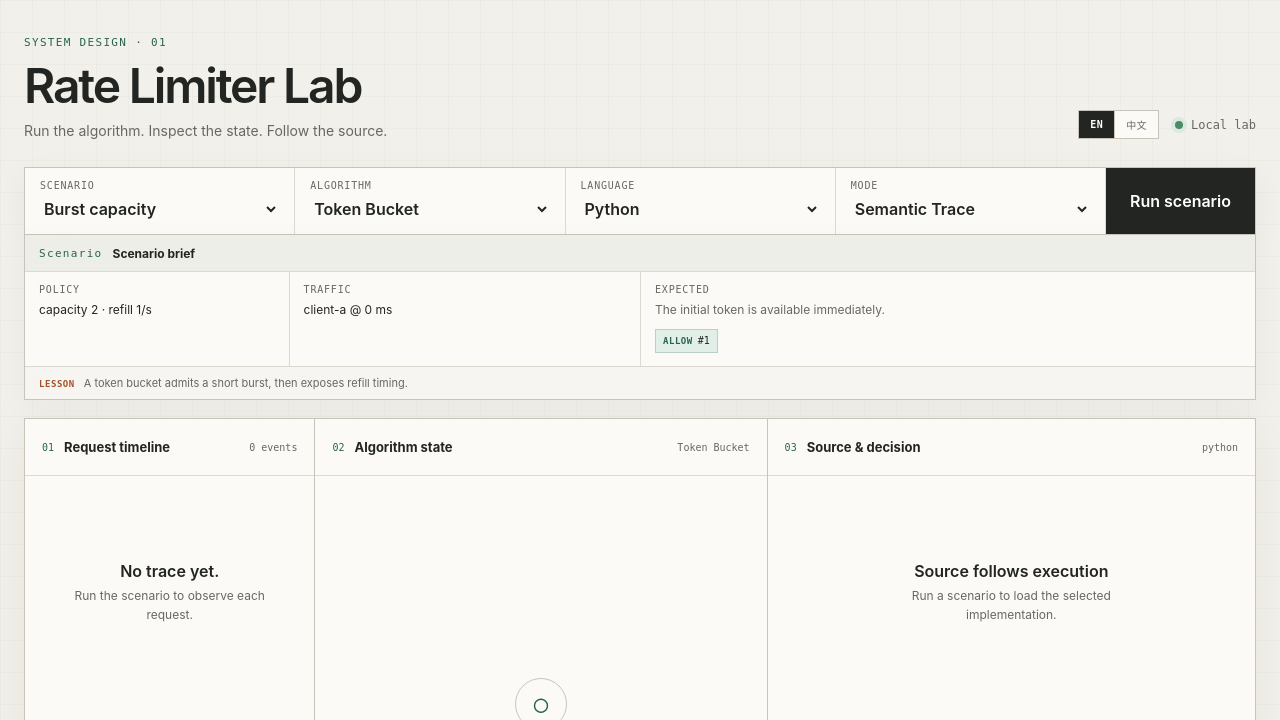
Test case: Rate Limiter Lab › shows API errors as a recoverable status
Click the button "Run scenario".
click(1180, 201)  # box top-left (1106, 168), bottom-right (1255, 234)
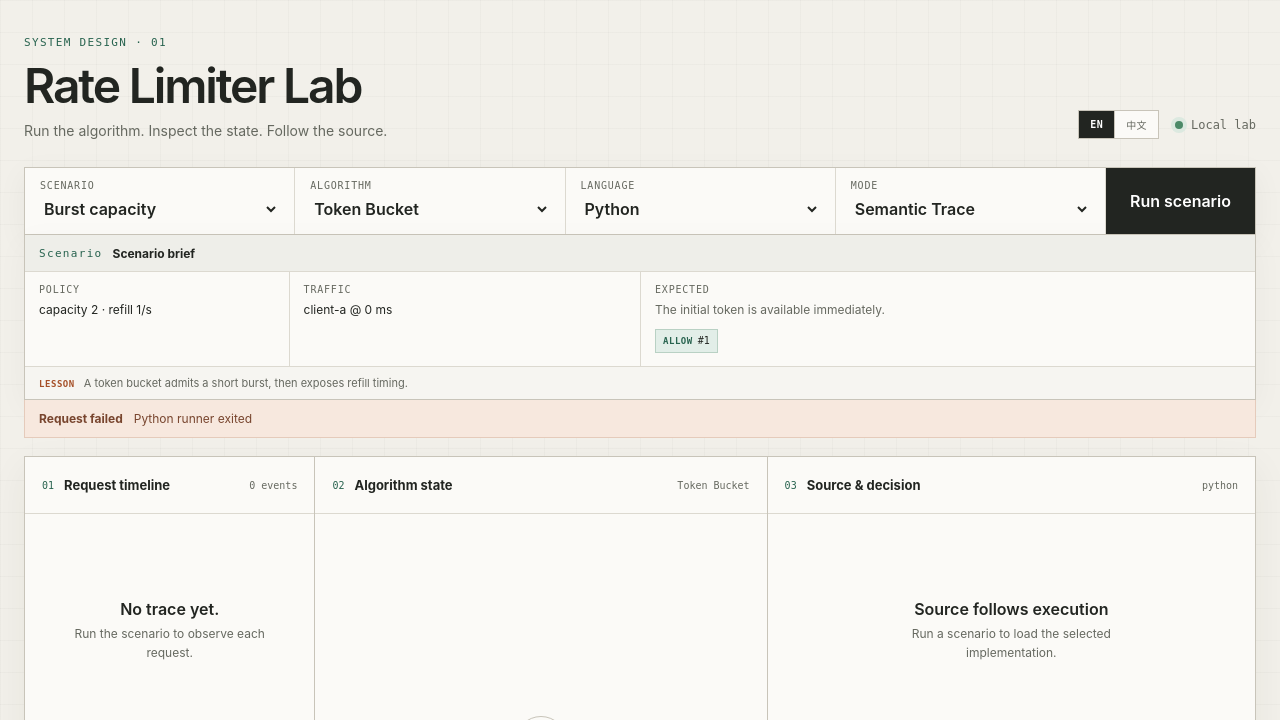
Expected: the message shows "Python runner exited", top-left (134, 411), bottom-right (252, 426)
